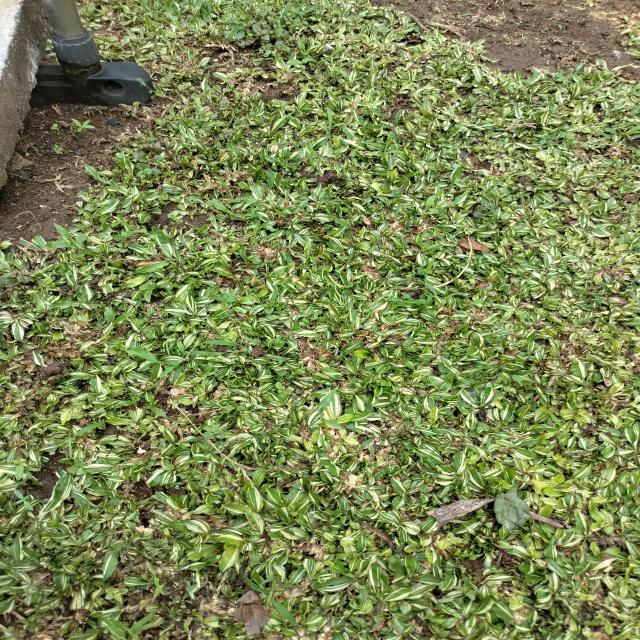bayi: (49, 123, 60, 131), (38, 269, 48, 277), (50, 166, 56, 172), (546, 59, 550, 65), (538, 50, 542, 54), (92, 140, 95, 144), (98, 167, 102, 170)
buah daun: (467, 197, 497, 218)
gingseng jawa: (603, 125, 640, 145), (180, 460, 202, 480)
rambat atas: (242, 564, 297, 628), (387, 256, 441, 308), (53, 420, 108, 460), (177, 339, 242, 359), (316, 104, 346, 140), (359, 133, 401, 158), (142, 558, 168, 597), (567, 288, 614, 307), (158, 358, 184, 379), (296, 36, 310, 56)
rambat bawah: (46, 222, 87, 257), (110, 337, 158, 361), (137, 399, 177, 420), (422, 194, 439, 214), (117, 396, 141, 408)
tunggang besar: (285, 57, 316, 71)
tunggang tengah: (533, 128, 575, 146), (202, 423, 226, 447), (554, 66, 576, 86)
ungu tunggang: (225, 0, 311, 55), (121, 132, 170, 182), (113, 230, 135, 255), (263, 300, 290, 315), (275, 381, 296, 398)
